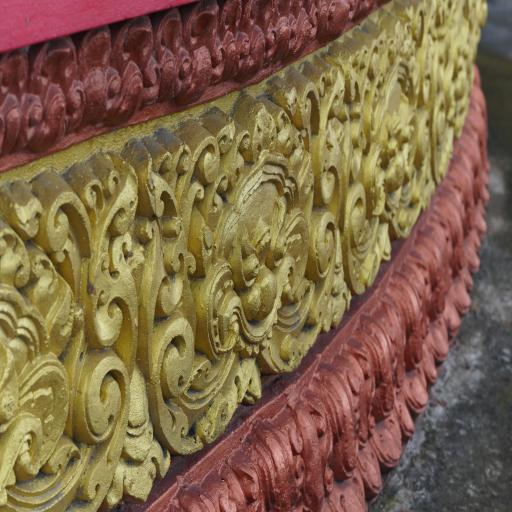la: (78, 154, 141, 512), (202, 177, 314, 360), (140, 147, 202, 461), (300, 61, 350, 332), (38, 172, 98, 280), (0, 52, 45, 166), (35, 33, 82, 140), (115, 17, 162, 117), (76, 27, 117, 125), (187, 6, 225, 102), (158, 6, 189, 102), (218, 0, 252, 85), (191, 122, 229, 188), (2, 180, 43, 239), (238, 96, 278, 154), (261, 0, 287, 78), (286, 0, 318, 62), (0, 227, 31, 291), (317, 0, 355, 49), (244, 0, 264, 87), (274, 102, 295, 162), (216, 112, 236, 154)
lua: (304, 381, 364, 512), (338, 336, 385, 502), (248, 405, 312, 512), (363, 315, 405, 477), (381, 285, 430, 421), (431, 188, 475, 306), (416, 230, 458, 347), (400, 263, 440, 385), (455, 147, 487, 242), (207, 460, 261, 512)
than: (0, 275, 66, 485), (364, 69, 436, 217), (390, 9, 419, 63), (368, 29, 390, 75), (346, 42, 373, 79)
